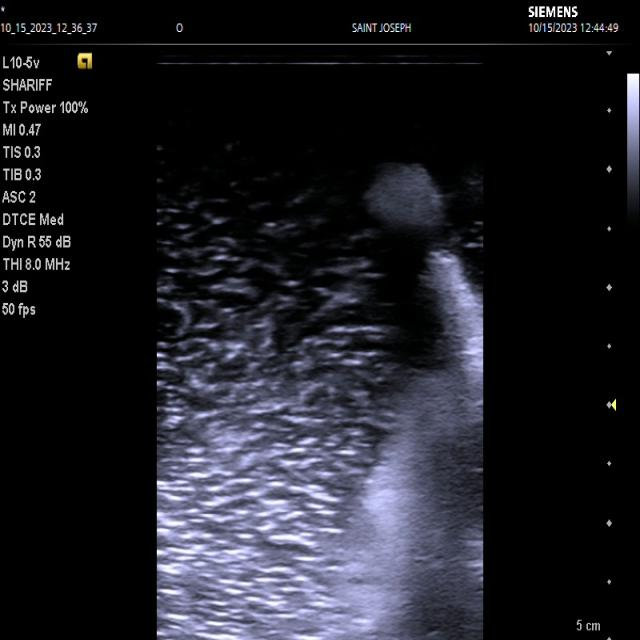tissue: (309, 163, 482, 640)
